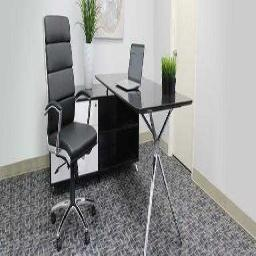Chair: (42, 15, 99, 251)
